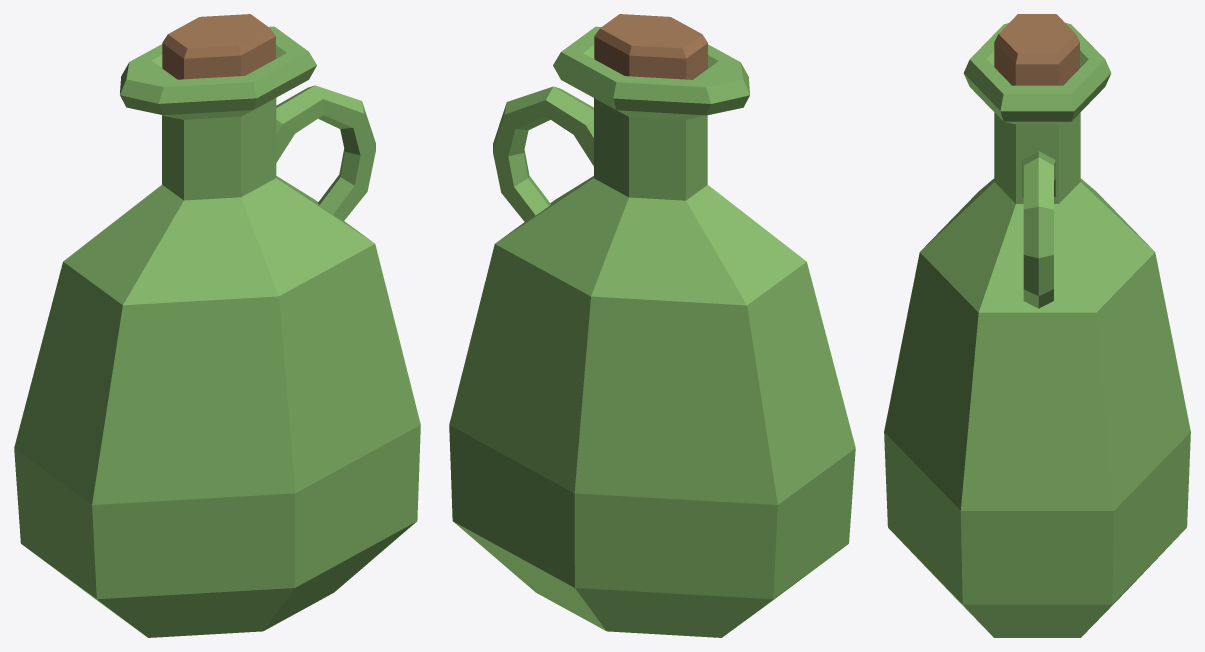
The model's file is Green_Potion_12.fbx.
3 renders of one model, left to right at view 1: azimuth 30°, elevation 25°; view 2: azimuth 150°, elevation 25°; view 3: azimuth 270°, elevation 25°, orthographic.
Parts seen in each view (by area): view 1: Green_Potion_12; view 2: Green_Potion_12; view 3: Green_Potion_12.
Boxes of the visible parts, x1,y1,x2,y2 form: Green_Potion_12: (14,14,420,637); Green_Potion_12: (449,14,855,637); Green_Potion_12: (884,14,1190,637).
Bounding box in the file's own units: 23.65 × 39.04 × 19.41.
